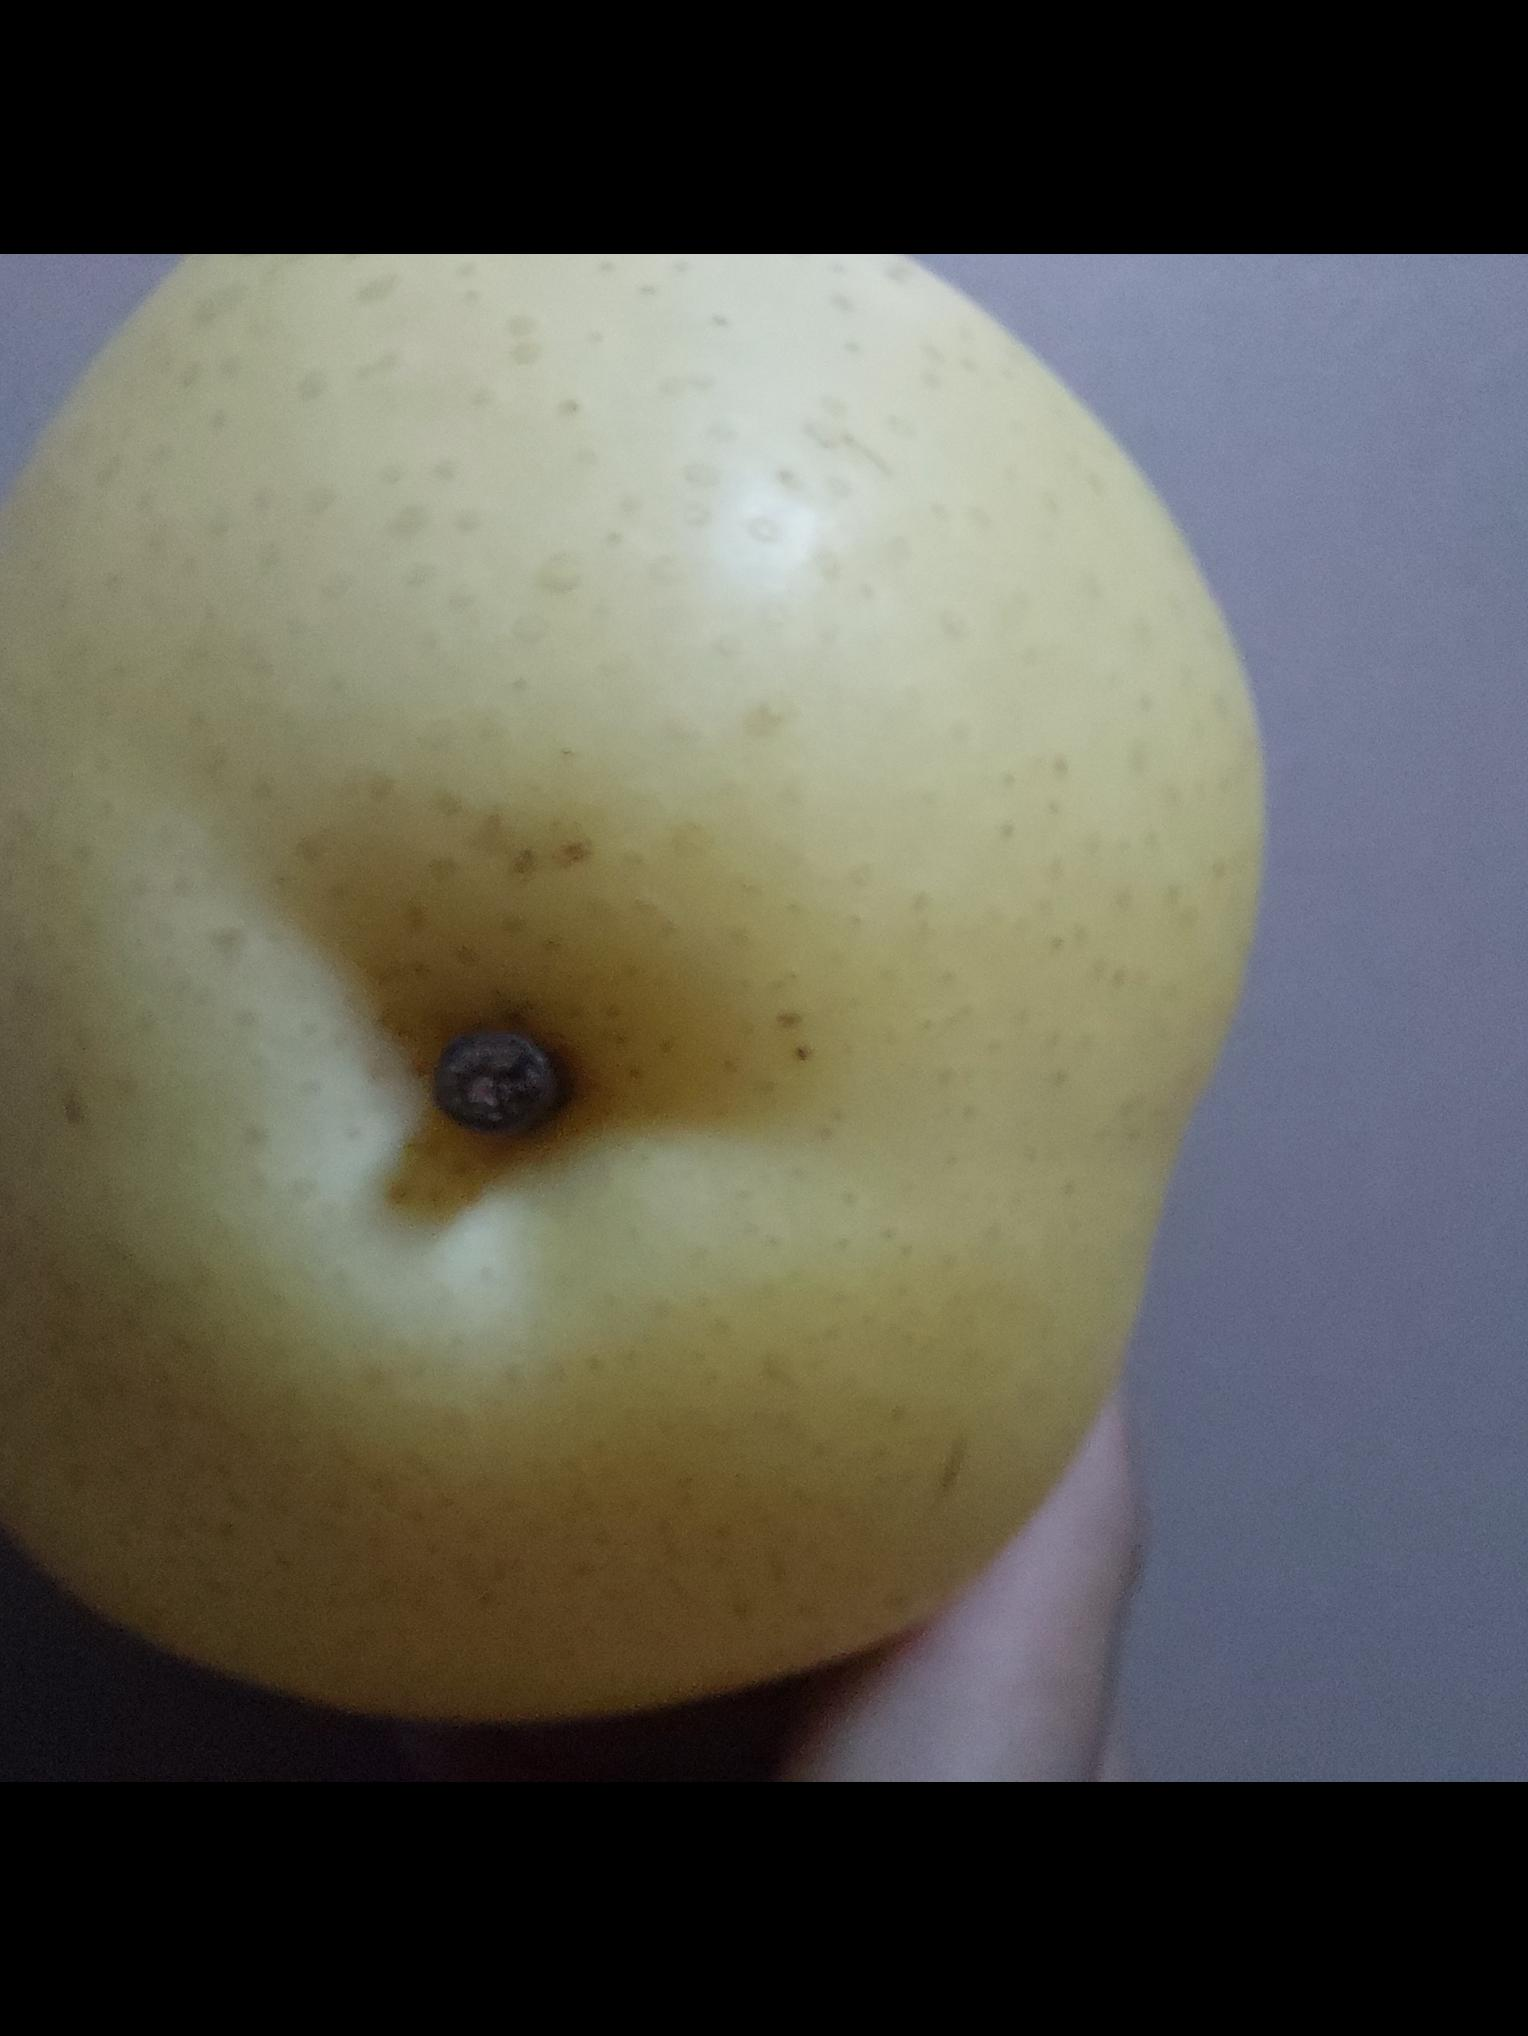Good Pear: (0, 254, 1264, 1726)
